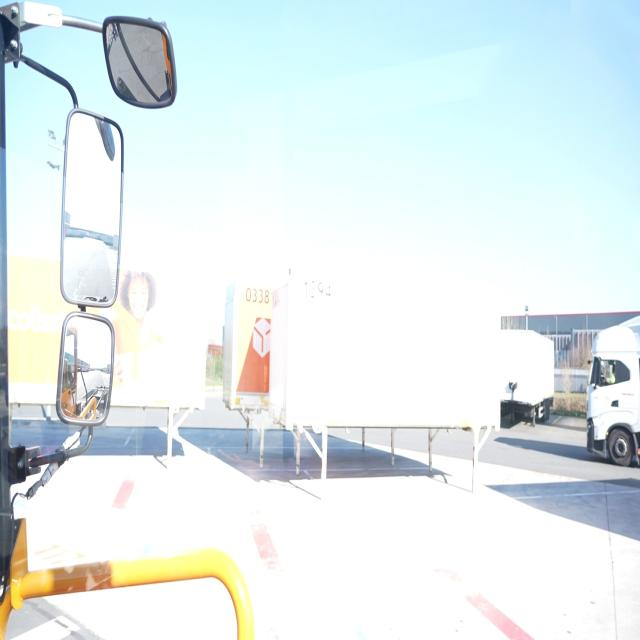Code: (240, 284, 272, 308)
